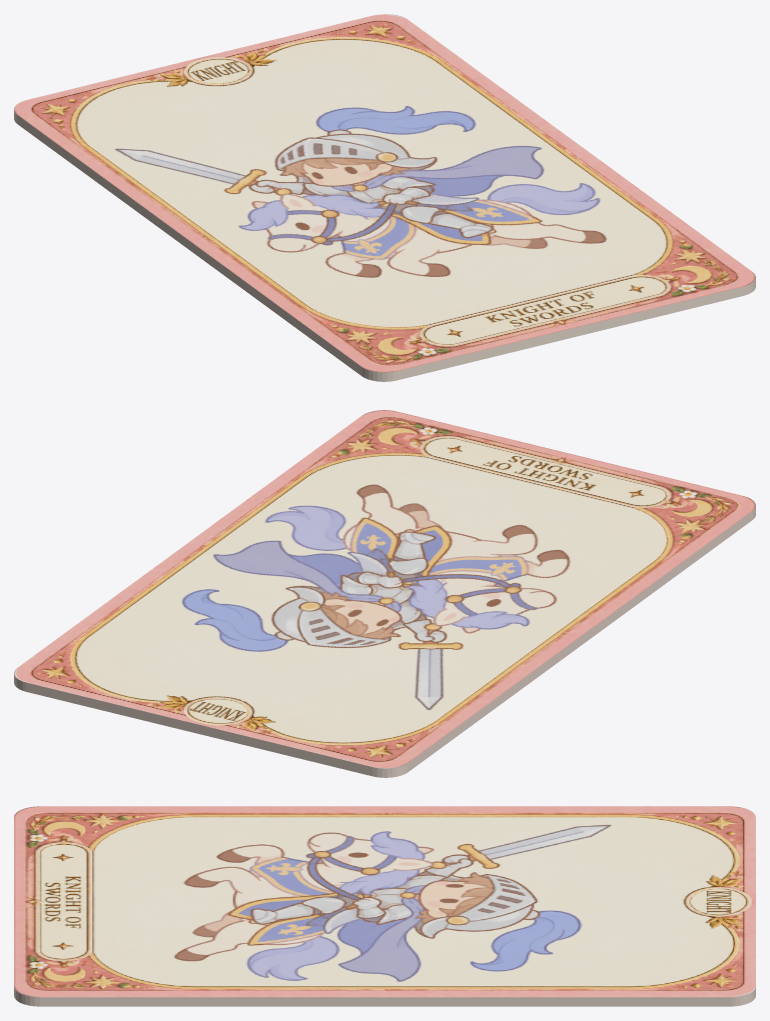
File: knight_of_swords.fbx
3 views of the same model, one above another, from view 1: azimuth 30°, elevation 25°; view 2: azimuth 150°, elevation 25°; view 3: azimuth 270°, elevation 25° (orthographic).
Visible parts, largest first — view 1: knight_of_swords; view 2: knight_of_swords; view 3: knight_of_swords.
Part boxes in pixels (x1,y1,x2,y2): knight_of_swords: (14,14,755,381); knight_of_swords: (14,410,755,777); knight_of_swords: (14,806,755,1006).
Size of the model in its own units: 7 by 0.16 by 11.5.
3 materials, 2 textured.
